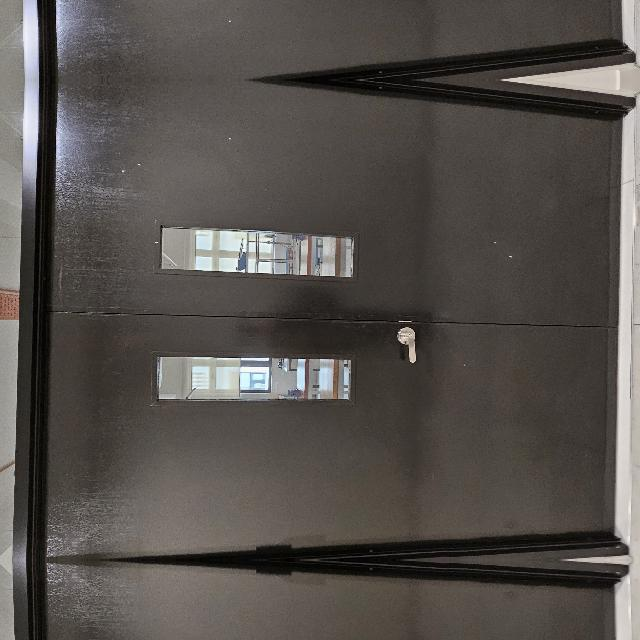door: (1, 104, 478, 640), (1, 410, 478, 640), (1, 0, 478, 56)
